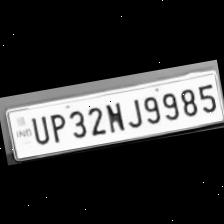2: (82, 101, 106, 137)
3: (64, 105, 86, 140)
5: (194, 79, 218, 114)
8: (176, 84, 198, 119)
9: (138, 90, 162, 127), (158, 88, 180, 122)
J: (121, 94, 143, 129)
N: (101, 98, 126, 134)
P: (44, 108, 67, 144)
U: (25, 110, 50, 146)
